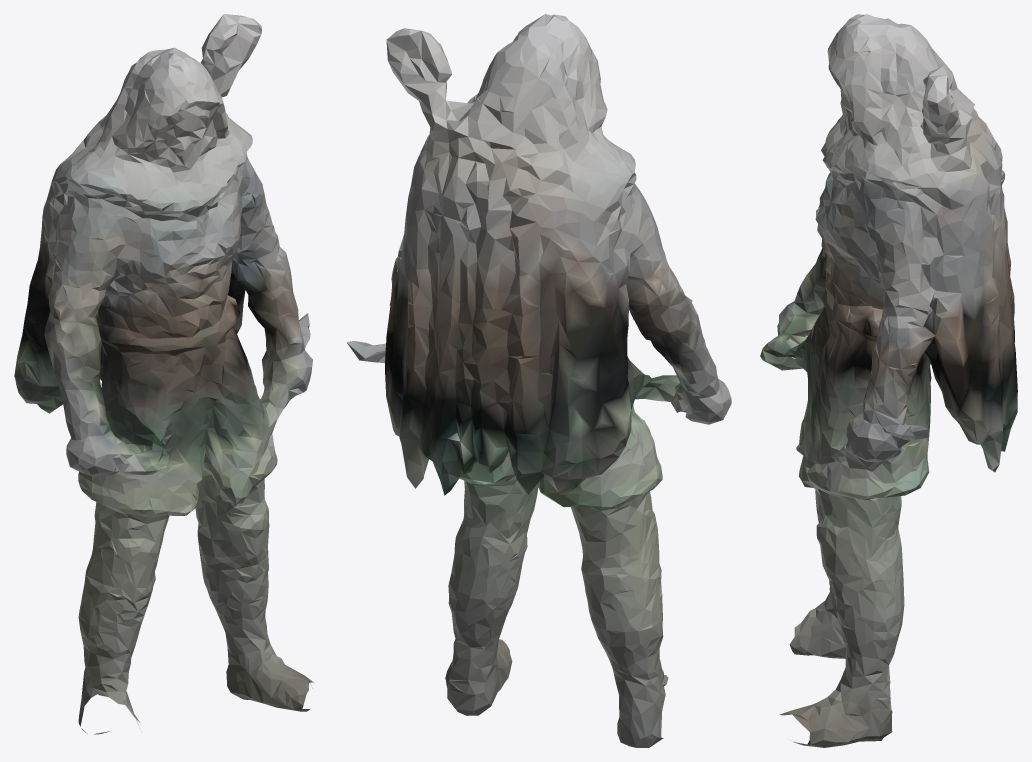
File: bishop.glb
3 renders of one model, left to right at view 1: azimuth 30°, elevation 25°; view 2: azimuth 150°, elevation 25°; view 3: azimuth 270°, elevation 25°, orthographic. The views are drawn at different scales.
Visible parts, largest first — view 1: world; view 2: world; view 3: world.
Part boxes in pixels (x1=…): world: x1=14, y1=14, x2=313, y2=734; world: x1=346, y1=14, x2=731, y2=747; world: x1=760, y1=14, x2=1017, y2=747.
Bounding box in the file's own units: 0.4678 × 1 × 0.3406.
